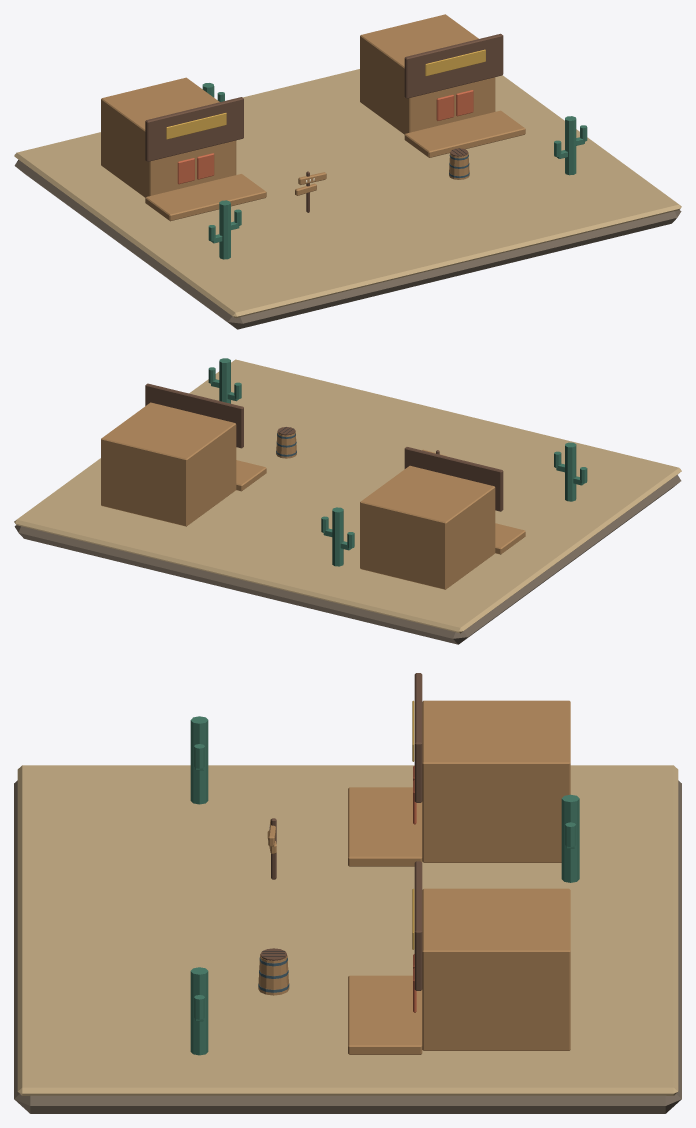
File: world-western.glb
3 views of the same model, one above another, from view 1: azimuth 30°, elevation 25°; view 2: azimuth 150°, elevation 25°; view 3: azimuth 270°, elevation 25° (orthographic). The views are drawn at different scales.
Visible parts, largest first — view 1: terrain-top, saloon, saloon.001, terrain-stratum, false-front.001, false-front, porch.001, porch, saloon-sign, saloon-sign.001, cactus-stem.001, cactus-stem.002; view 2: terrain-top, saloon, saloon.001, terrain-stratum, false-front, false-front.001, cactus-stem.001, cactus-stem.003, porch, porch.001, cactus-stem.002; view 3: terrain-top, saloon.001, saloon, terrain-stratum, porch.001, porch, cactus-stem.003, cactus-stem.001, cactus-stem.002, false-front, false-front.001, barrel.001.
Boxes of the visible parts, x1,y1,x2,y2 form: terrain-top: (14,69,681,318); saloon: (101,77,236,197); saloon.001: (360,14,495,134); terrain-stratum: (14,159,681,329); false-front.001: (404,33,503,98); false-front: (145,97,243,161); porch.001: (404,110,525,157); porch: (145,174,266,221); saloon-sign: (166,113,226,139); saloon-sign.001: (425,49,485,76); cactus-stem.001: (219,200,230,259); cactus-stem.002: (565,116,576,175); terrain-top: (14,359,681,633); saloon: (360,465,495,589); saloon.001: (101,402,236,526); terrain-stratum: (14,475,681,644); false-front: (404,447,503,511); false-front.001: (145,383,243,448); cactus-stem.001: (565,442,576,501); cactus-stem.003: (332,507,343,566); porch: (495,523,525,554); porch.001: (236,460,266,491); cactus-stem.002: (219,358,230,403); terrain-top: (17,765,678,1095); saloon.001: (422,888,570,1050); saloon: (422,700,570,862); terrain-stratum: (14,780,681,1113); porch.001: (348,975,422,1054); porch: (348,787,422,866); cactus-stem.003: (561,794,579,882); cactus-stem.001: (190,716,208,804); cactus-stem.002: (190,967,208,1055); false-front: (414,673,422,802); false-front.001: (414,861,422,990); barrel.001: (258,955,289,995).
Bounding box in the file's own units: 21 × 4.59 × 18.
